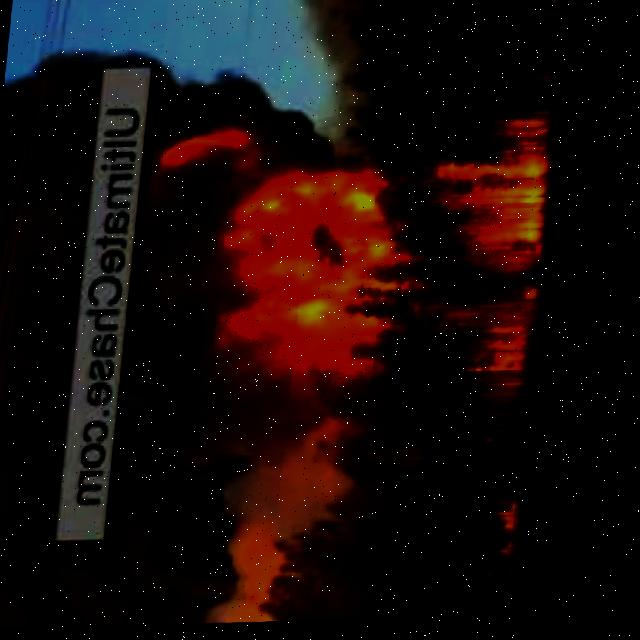Fire: (138, 124, 396, 380), (406, 117, 557, 432), (479, 494, 529, 578)
Smoke: (106, 0, 384, 633), (0, 49, 105, 632)
